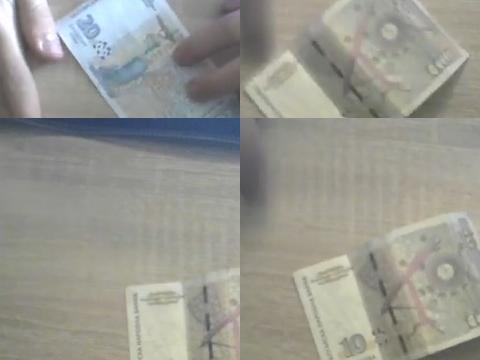10leva: (292, 212, 480, 360), (243, 0, 470, 118), (124, 269, 240, 360)
20leva: (56, 0, 240, 118)
